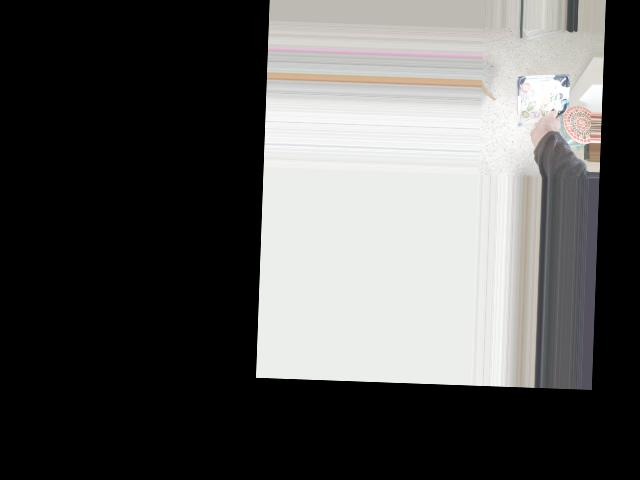cheese: (508, 75, 576, 144)
